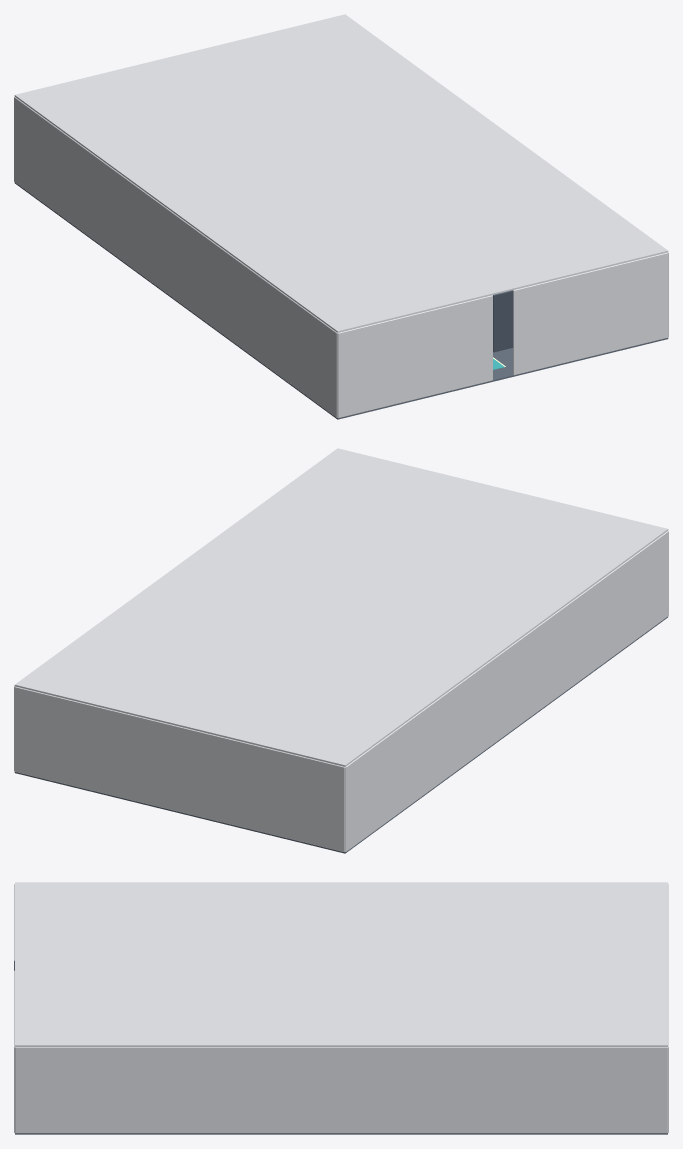
Rendered from engine-room.glb.
The picture shows the model from 3 angles, top to bottom: view 1: azimuth 30°, elevation 25°; view 2: azimuth 150°, elevation 25°; view 3: azimuth 270°, elevation 25°; orthographic projection.
Parts seen in each view (by area): view 1: CM_BULKHEAD, CM_DECK, CM_TRIM; view 2: CM_BULKHEAD, CM_DECK; view 3: CM_BULKHEAD, CM_DECK.
Part boxes in pixels (box(x1,y1,x2,y2)): CM_BULKHEAD: box(14, 14, 668, 417); CM_DECK: box(14, 182, 668, 419); CM_TRIM: box(493, 290, 513, 352); CM_BULKHEAD: box(14, 448, 668, 851); CM_DECK: box(14, 616, 668, 853); CM_BULKHEAD: box(14, 882, 668, 1133); CM_DECK: box(15, 1133, 667, 1134).
Size of the model in its own units: 26.14 by 6.64 by 44.14.
